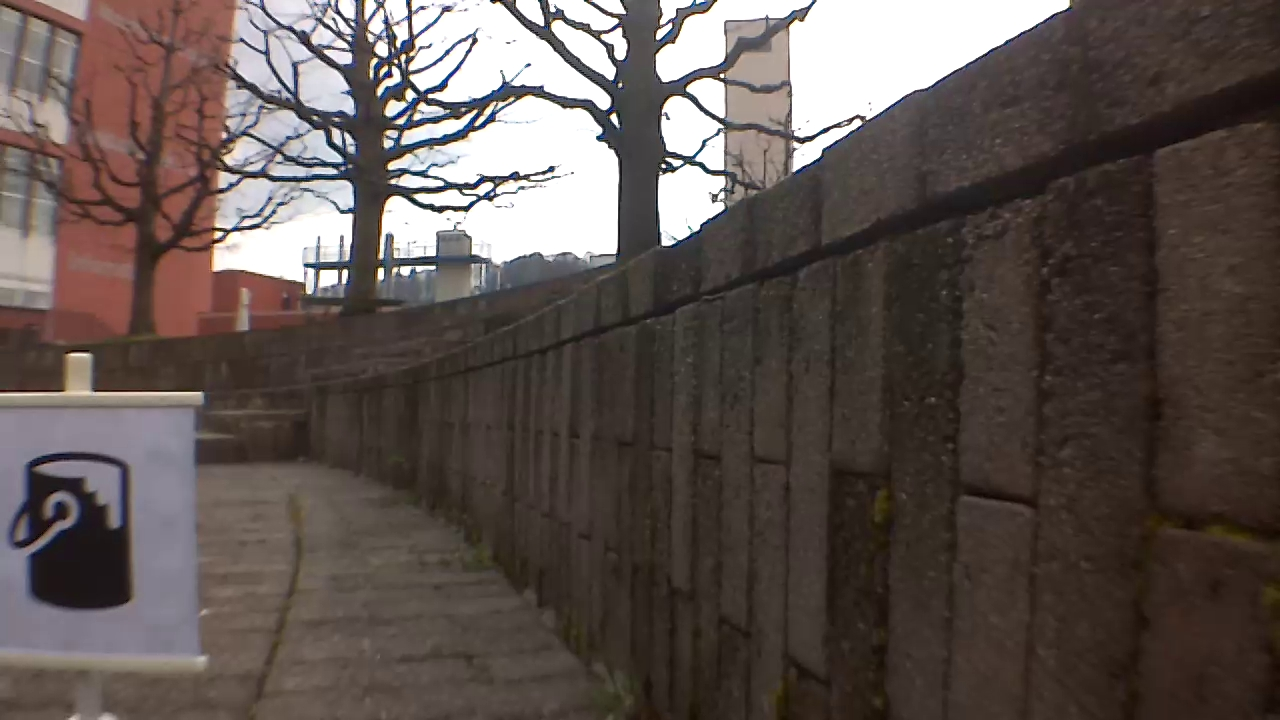bucket: (5, 445, 135, 618)
